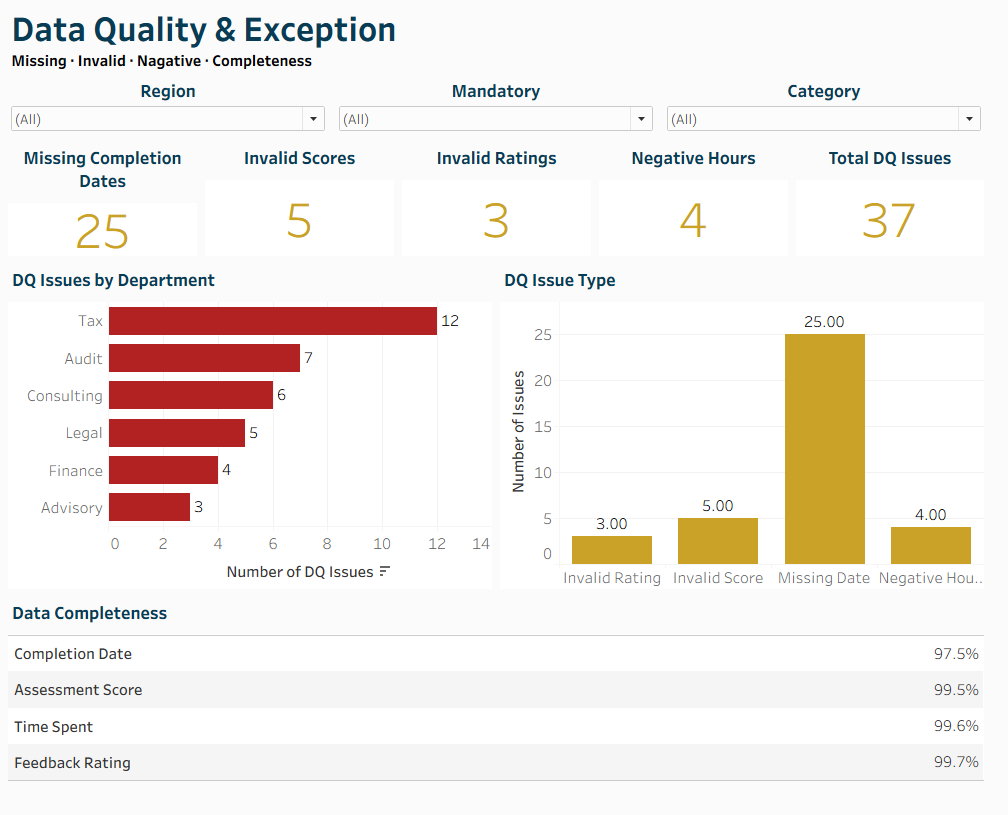

The page's visual inventory and layout, read from the dashboard file:
{"tool":"tableau","page":{"name":"4 - Data Quality","canvas":[1000,800],"ordinal":3},"visuals":[{"type":"text","box":[8,8,984,74]},{"type":"filter","title":" DQ Issues by Department","param":"[federated.15vr0xh1iu9k4k1dwr2az0vmulpq].[none:Region:nk]","box":[8,82,328,63]},{"type":"filter","title":" DQ Issues by Department","param":"[federated.15vr0xh1iu9k4k1dwr2az0vmulpq].[none:Mandatory:nk]","box":[336,82,328,63]},{"type":"filter","title":" DQ Issues by Department","param":"[federated.15vr0xh1iu9k4k1dwr2az0vmulpq].[none:Course_Category:nk]","box":[664,82,328,63]},{"type":"worksheet","title":"KPI Missing Dates","mark":"Text","box":[8,145,197,122]},{"type":"worksheet","title":"KPI Invalid Scores","mark":"Text","box":[205,145,197,122]},{"type":"worksheet","title":"KPI Invalid Ratings","mark":"Text","box":[402,145,197,122]},{"type":"worksheet","title":"KPI Negative Hours","mark":"Text","box":[599,145,197,122]},{"type":"worksheet","title":"KPI Total DQ Issues","mark":"Automatic","box":[796,145,196,122]},{"type":"worksheet","title":" DQ Issues by Department","mark":"Bar","rows":["Department"],"cols":["Calculation_1023424382238720"],"box":[8,267,492,333]},{"type":"worksheet","title":"DQ Issue Type","mark":"Automatic","box":[500,267,492,333]},{"type":"worksheet","title":"Data Completeness","mark":"Text","box":[8,600,984,192]}]}

Visuals, with their boxes in screenshot pixels (x1, y1, x2, y2), scaled from the page's 1000x800 canvas onto the 1008x815 screenshot:
text: bbox=(8, 8, 1000, 84)
" DQ Issues by Department" filter: bbox=(8, 84, 339, 148)
" DQ Issues by Department" filter: bbox=(339, 84, 669, 148)
" DQ Issues by Department" filter: bbox=(669, 84, 1000, 148)
"KPI Missing Dates" worksheet (Text marks): bbox=(8, 148, 207, 272)
"KPI Invalid Scores" worksheet (Text marks): bbox=(207, 148, 405, 272)
"KPI Invalid Ratings" worksheet (Text marks): bbox=(405, 148, 604, 272)
"KPI Negative Hours" worksheet (Text marks): bbox=(604, 148, 802, 272)
"KPI Total DQ Issues" worksheet: bbox=(802, 148, 1000, 272)
" DQ Issues by Department" worksheet (Bar marks): bbox=(8, 272, 504, 611)
"DQ Issue Type" worksheet: bbox=(504, 272, 1000, 611)
"Data Completeness" worksheet (Text marks): bbox=(8, 611, 1000, 807)
